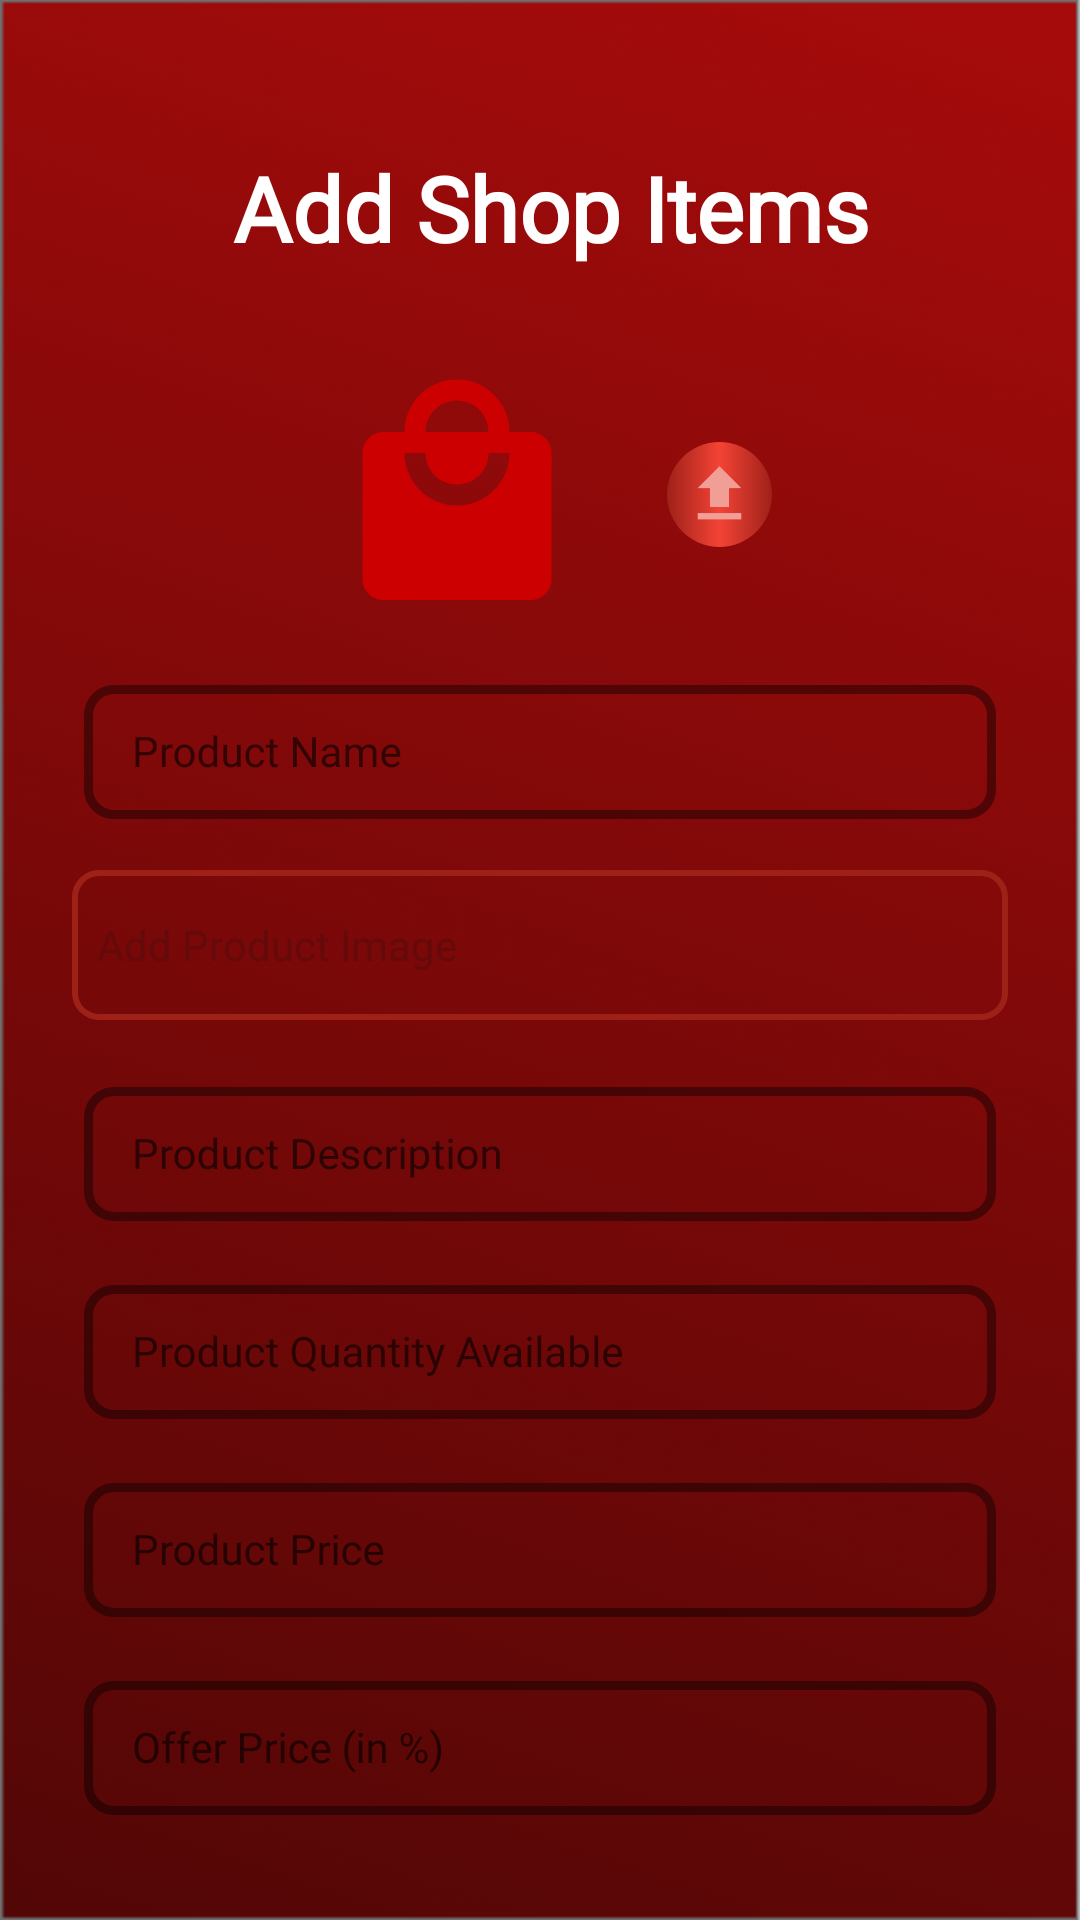

Icon click points for this 1080×1920 phone screenshot, format [x,y]:
products: [457,489]
upload: [719,494]
